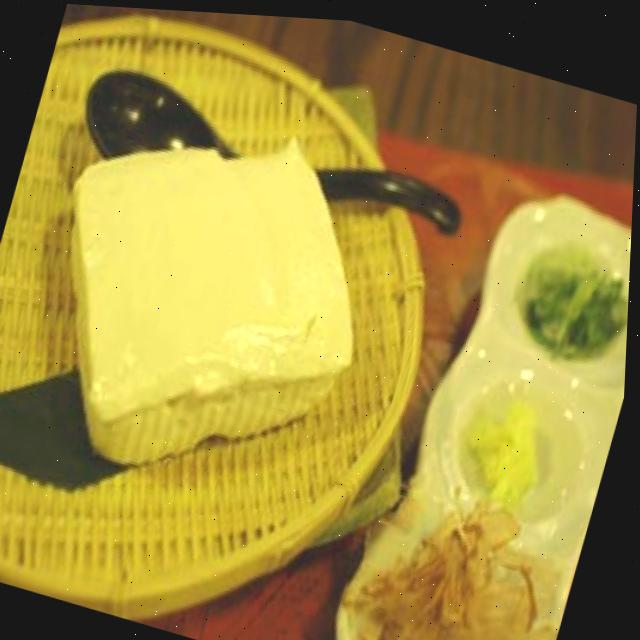豆腐料理: (2, 78, 407, 517)
